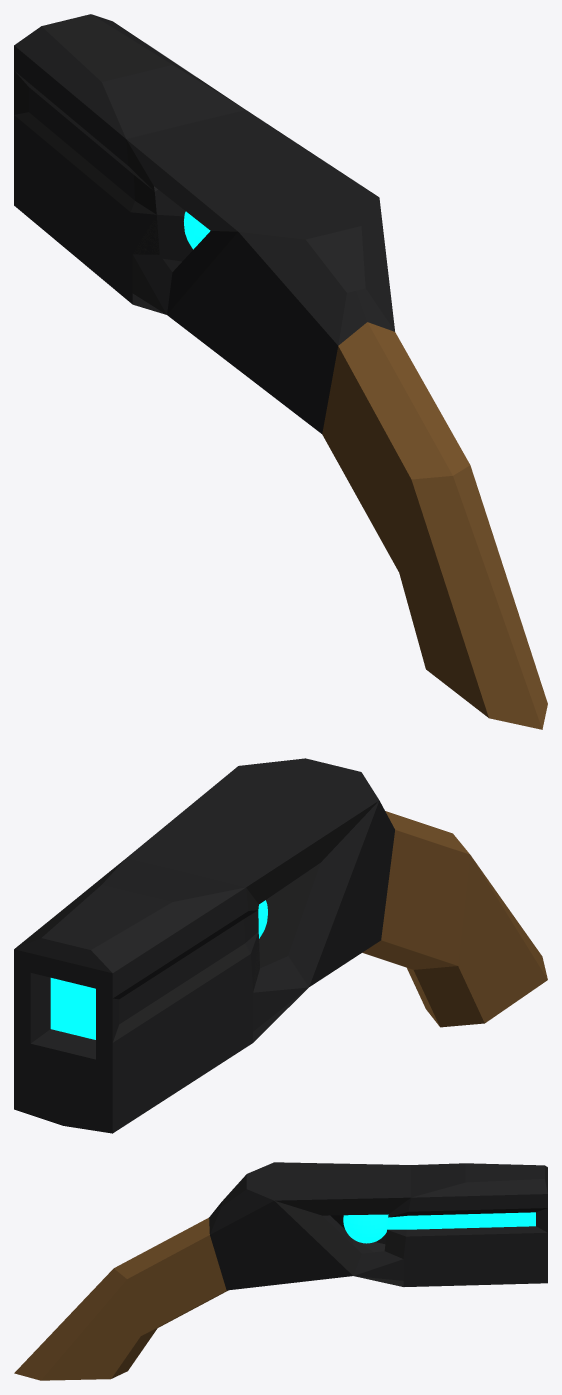
The model's file is sci-fi-pistol.glb.
The picture shows the model from 3 angles, top to bottom: view 1: azimuth 30°, elevation 25°; view 2: azimuth 150°, elevation 25°; view 3: azimuth 270°, elevation 25°; orthographic projection. The views are drawn at different scales.
Visible parts, largest first — view 1: Gun; view 2: Gun; view 3: Gun.
Part boxes in pixels (x1,y1,x2,y2): Gun: (14, 14, 547, 729); Gun: (14, 758, 547, 1133); Gun: (14, 1162, 547, 1380).
Bounding box in the file's own units: 0.3879 × 0.9432 × 2.27.
